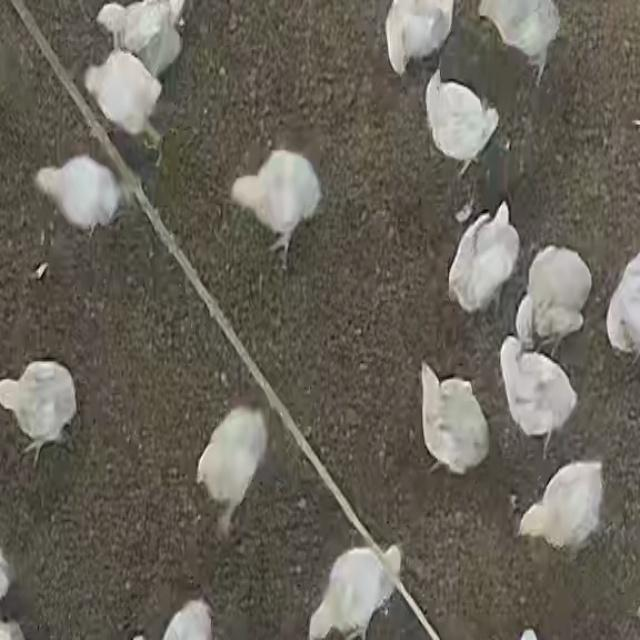chicken: (197, 404, 270, 534), (229, 147, 322, 248), (308, 544, 400, 640), (446, 201, 521, 315), (501, 334, 577, 442), (518, 459, 605, 553), (420, 363, 490, 478), (422, 70, 502, 170), (82, 49, 164, 144), (0, 360, 77, 461), (33, 153, 124, 236), (518, 243, 591, 344), (478, 0, 560, 86), (96, 0, 186, 70), (383, 0, 454, 74), (607, 255, 640, 358), (157, 598, 214, 640)
